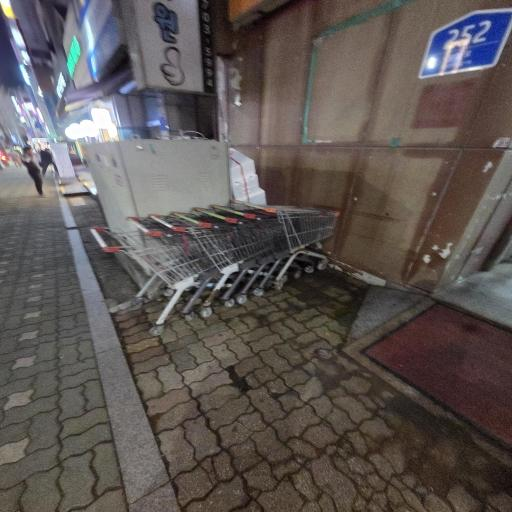combined_cart: (91, 201, 341, 342)
